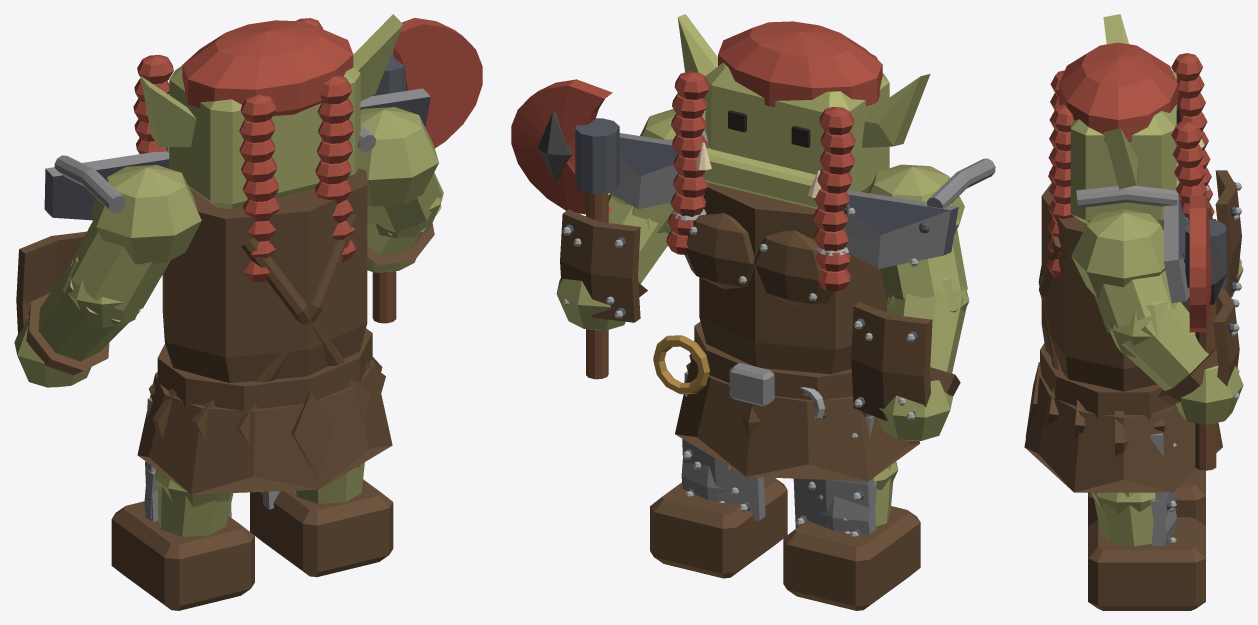
Rendered from host_13.glb.
3 renders of one model, left to right at view 1: azimuth 30°, elevation 25°; view 2: azimuth 150°, elevation 25°; view 3: azimuth 270°, elevation 25°, orthographic. The views are drawn at different scales.
Parts seen in each view (by area): view 1: Tailored continuous bodice, Leather ragged skirt, V6 source rounded red hair scalp, Observed face, Grounded boot L, Grounded boot R, Connected shoulder L, V6 source red huntress actual continuous crescent forged bla, Continuous leather waist belt, Connected shoulder R, Upper arm L, Forearm L (+33 smaller); view 2: Tailored continuous bodice, Leather ragged skirt, Observed face, V6 source rounded red hair scalp, Grounded boot L, Grounded boot R, V6 source wrapped wrist armor L, V6 source angled fitted shoulder plate L, V6 source red huntress actual continuous crescent forged bla, V6 source wrapped wrist armor R, V6 detail huntress fitted leather breast armor, V6 detail huntress fitted leather breast armor.001 (+27 smaller); view 3: Leather ragged skirt, Tailored continuous bodice, Grounded boot R, V6 source rounded red hair scalp, Observed face, Connected shoulder R, Forearm R, Continuous leather waist belt, V6 source red huntress actual continuous crescent forged bla, Upper arm R, Grasping hand R, V6 source angled fitted shoulder plate R (+32 smaller).
Part boxes in pixels (<box>): Tailored continuous bodice: <box>162,168,367,382</box>; Leather ragged skirt: <box>137,359,392,494</box>; V6 source rounded red hair scalp: <box>182,20,353,115</box>; Observed face: <box>169,66,360,209</box>; Grounded boot L: <box>111,501,254,610</box>; Grounded boot R: <box>250,479,393,577</box>; Connected shoulder L: <box>91,165,201,264</box>; V6 source red huntress actual continuous crescent forged bla: <box>392,17,482,148</box>; Continuous leather waist belt: <box>157,328,372,410</box>; Connected shoulder R: <box>359,107,438,206</box>; Upper arm L: <box>70,219,170,311</box>; Forearm L: <box>38,261,140,361</box>; Tailored continuous bodice: <box>699,183,887,374</box>; Leather ragged skirt: <box>675,356,919,481</box>; Observed face: <box>705,63,889,191</box>; V6 source rounded red hair scalp: <box>718,21,882,106</box>; Grounded boot L: <box>783,506,920,610</box>; Grounded boot R: <box>650,477,787,578</box>; V6 source wrapped wrist armor L: <box>851,302,932,425</box>; V6 source angled fitted shoulder plate L: <box>844,190,958,268</box>; V6 source red huntress actual continuous crescent forged bla: <box>511,79,612,214</box>; V6 source wrapped wrist armor R: <box>560,209,640,322</box>; V6 detail huntress fitted leather breast armor: <box>753,230,833,306</box>; V6 detail huntress fitted leather breast armor.001: <box>684,213,754,289</box>; Leather ragged skirt: <box>1024,375,1222,492</box>; Tailored continuous bodice: <box>1041,182,1205,391</box>; Grounded boot R: <box>1088,517,1205,610</box>; V6 source rounded red hair scalp: <box>1059,42,1177,141</box>; Observed face: <box>1070,71,1176,223</box>; Connected shoulder R: <box>1071,209,1165,298</box>; Forearm R: <box>1116,302,1208,390</box>; Continuous leather waist belt: <box>1040,343,1175,419</box>; V6 source red huntress actual continuous crescent forged bla: <box>1189,195,1211,332</box>; Upper arm R: <box>1094,270,1181,332</box>; Grasping hand R: <box>1176,365,1243,424</box>; V6 source angled fitted shoulder plate R: <box>1164,196,1189,303</box>.
Bounding box in the file's own units: 1.37 × 1.56 × 0.6142.
